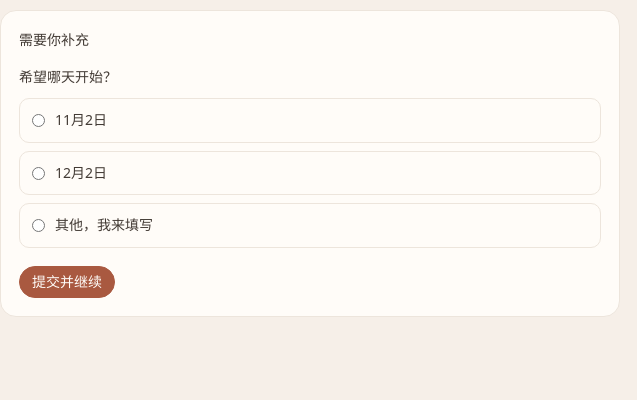
Scenario: no answer is preselected and the final option accepts custom text
Click the button "提交并继续" at (67, 282), box 19,266 -> 115,298
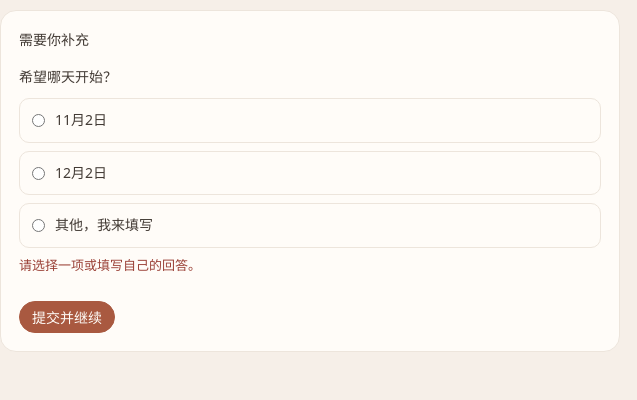
Check: the message shows "请选择", box 19,256 -> 201,274
Click the radio button labelled "其他，我来填写" at (38, 226), box 32,219 -> 45,232
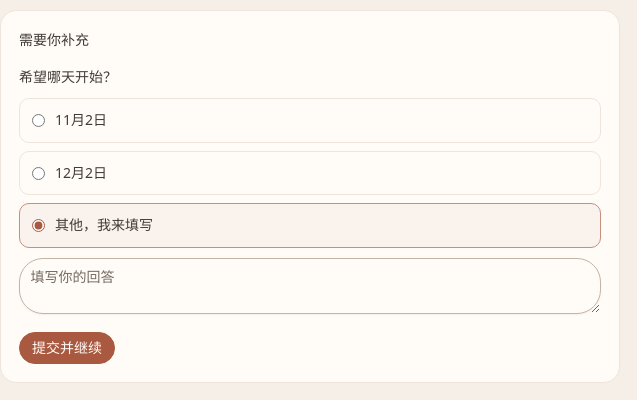
Type "  明年1月2日  " into the text box named "希望哪天开始？：自己的回答" at (310, 286), box 19,258 -> 601,314
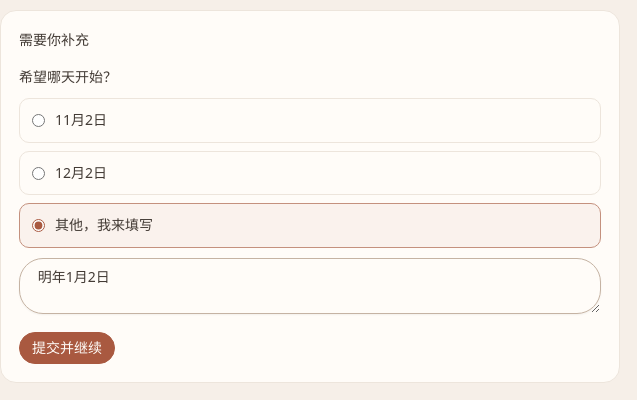
Click the button "提交并继续" at (67, 348), box 19,332 -> 115,364
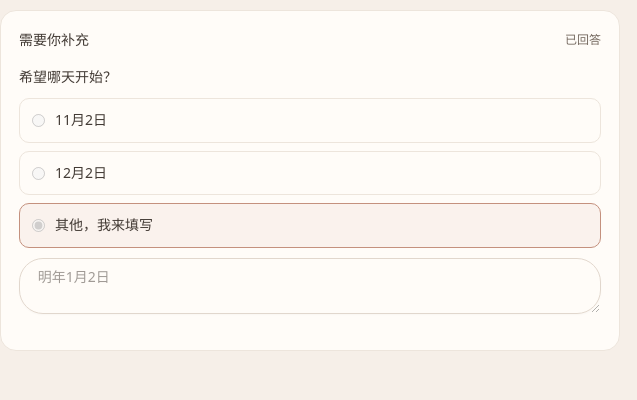
Check: the message reads "已回答", box 565,30 -> 601,48
